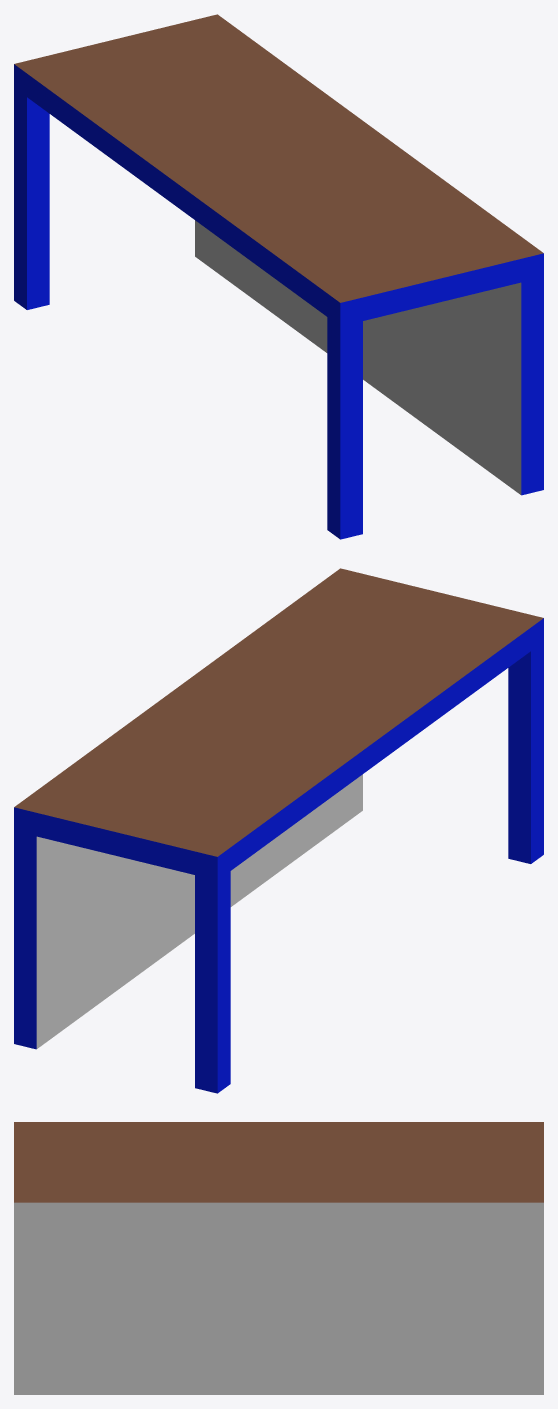
File: masa1.dae
The picture shows the model from 3 angles, top to bottom: view 1: azimuth 30°, elevation 25°; view 2: azimuth 150°, elevation 25°; view 3: azimuth 270°, elevation 25°; orthographic projection. The views are drawn at different scales.
Visible parts, largest first — view 1: Masa; view 2: Masa; view 3: Masa.
Part boxes in pixels (x1=…): Masa: x1=14, y1=14, x2=543, y2=539; Masa: x1=14, y1=568, x2=543, y2=1093; Masa: x1=14, y1=1122, x2=543, y2=1394.
Bounding box in the file's own units: 0.9 × 2.5 × 1.
